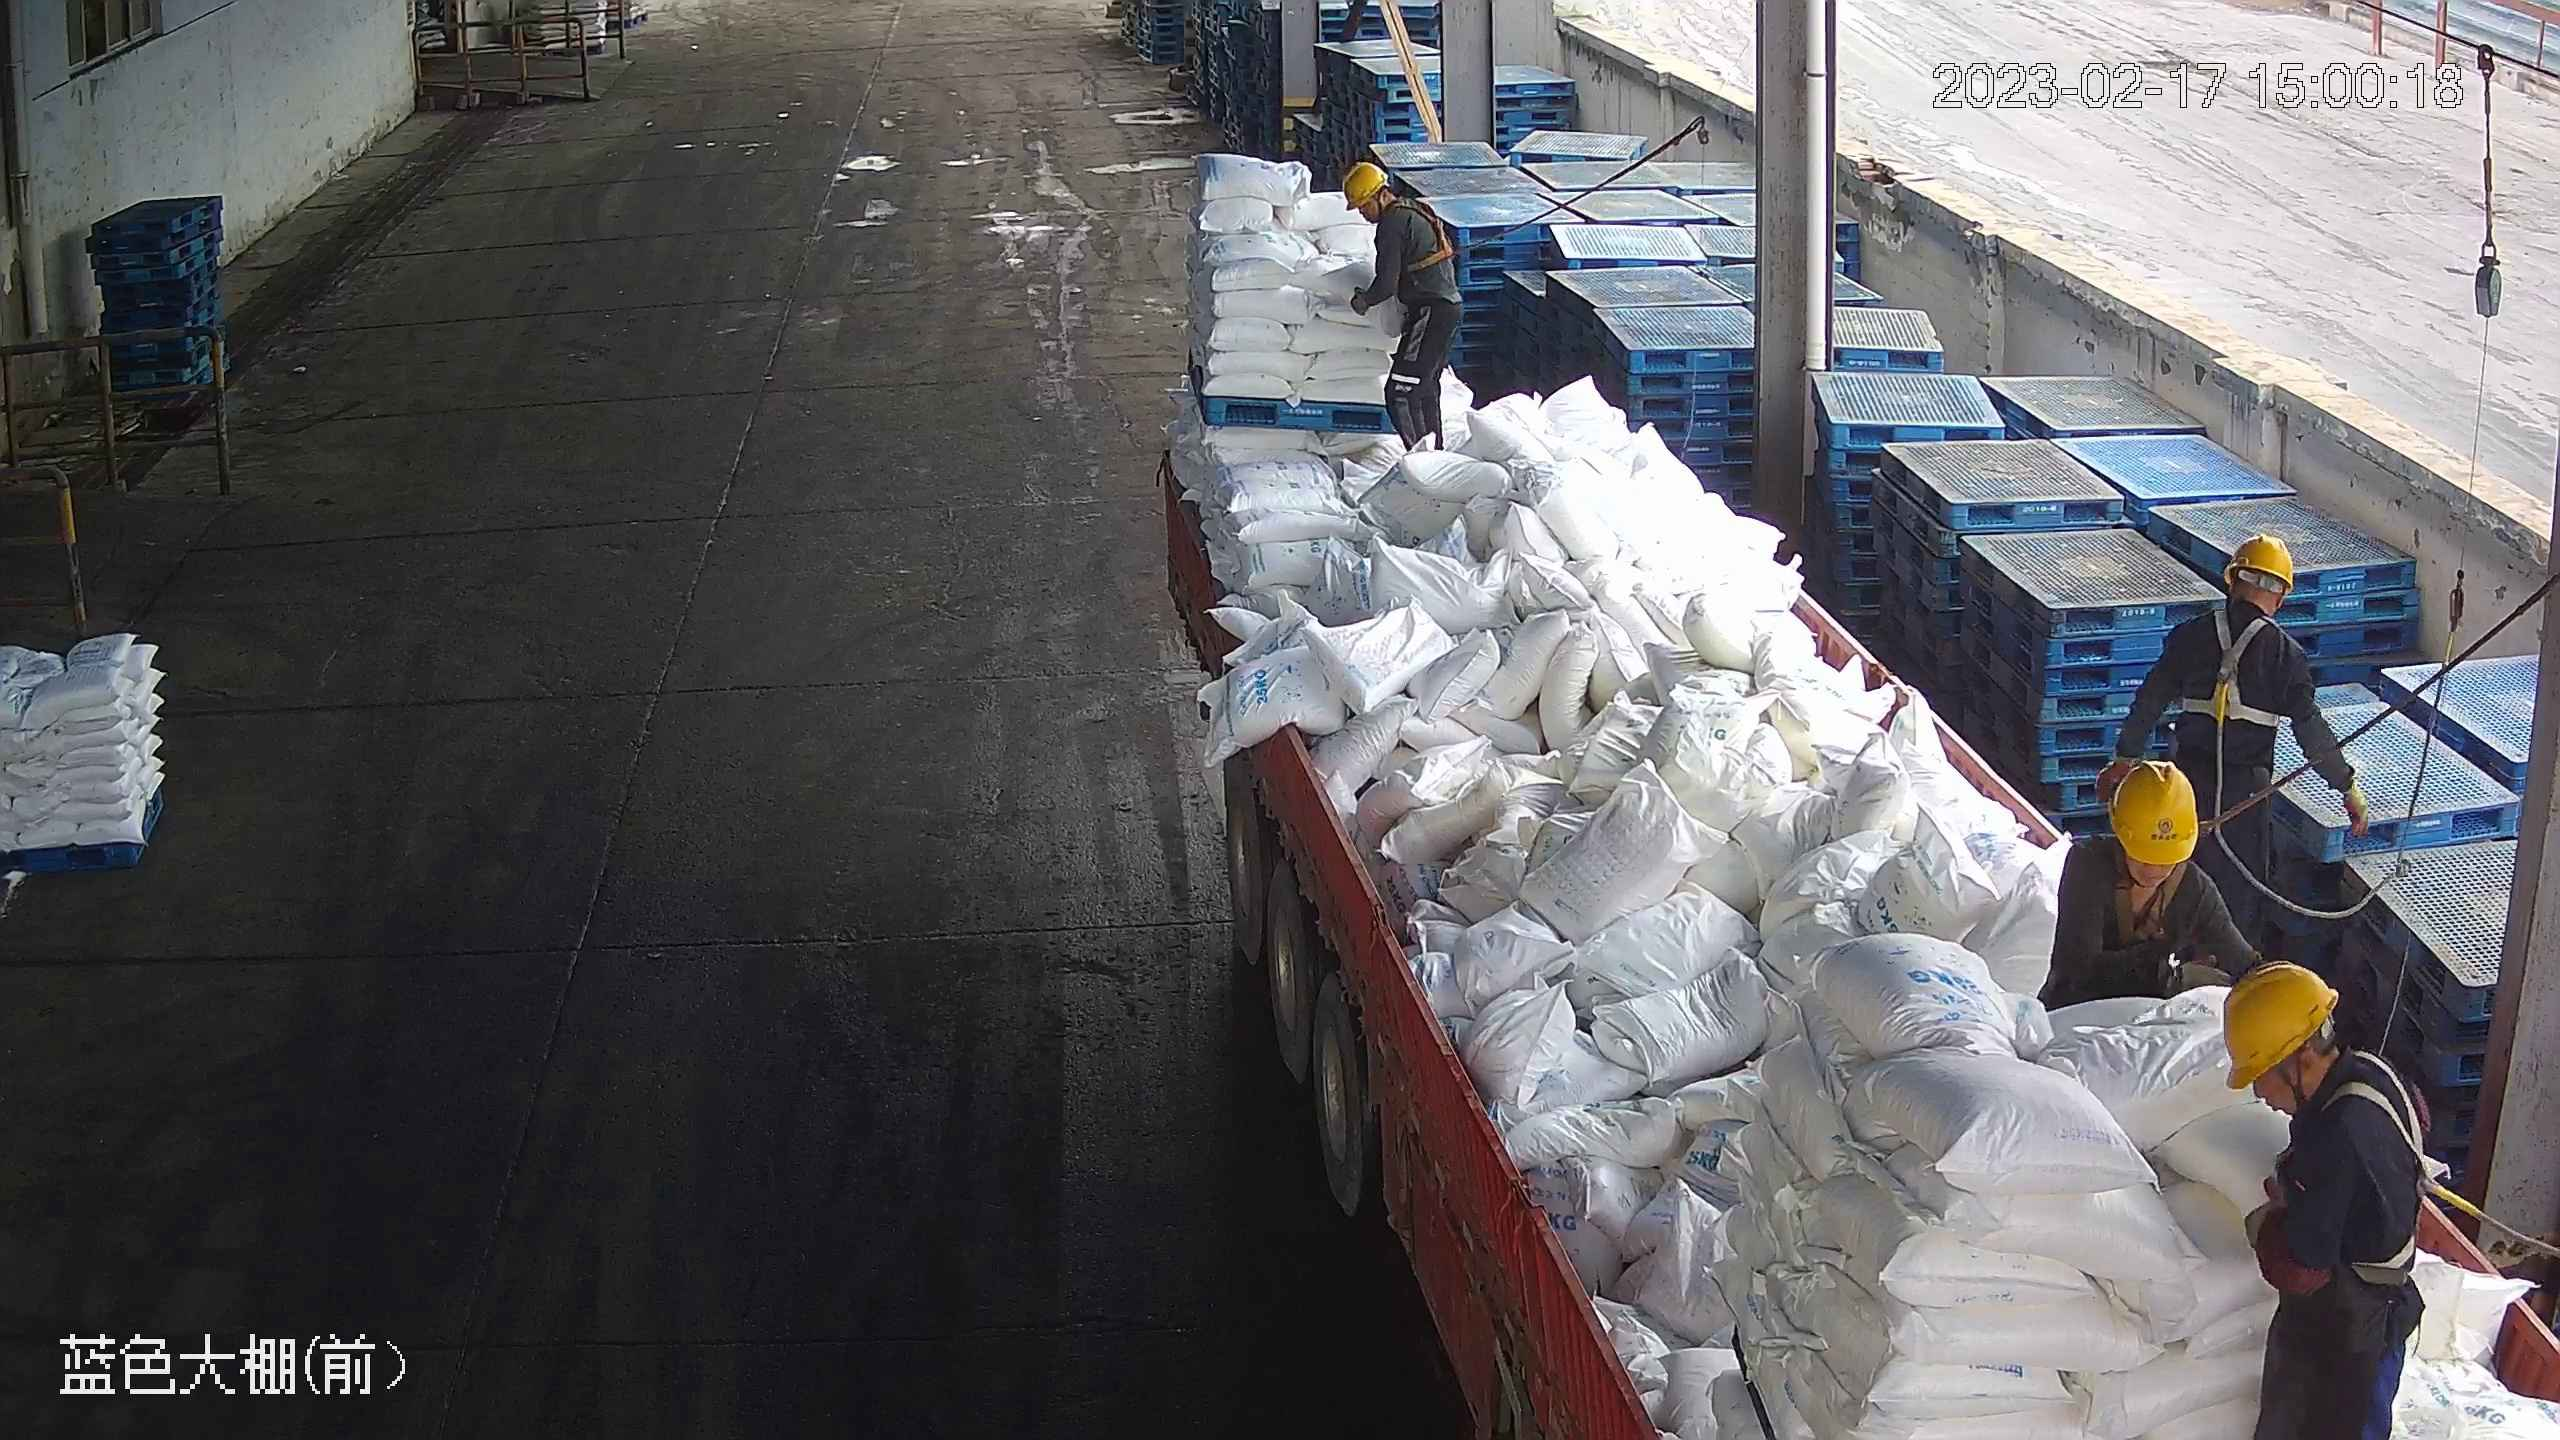belt: (2292, 1056, 2457, 1280), (2182, 606, 2287, 734), (2090, 827, 2199, 948), (1383, 194, 1460, 275)
head: (2219, 958, 2432, 1187), (2058, 755, 2230, 916), (2161, 533, 2311, 674), (1343, 159, 1447, 238)
helmet: (2218, 957, 2340, 1093), (2107, 753, 2202, 865), (2222, 532, 2296, 593), (1342, 160, 1388, 207)
people: (2220, 958, 2433, 1438), (1344, 158, 1465, 453)
truck: (1139, 164, 2546, 1437)
